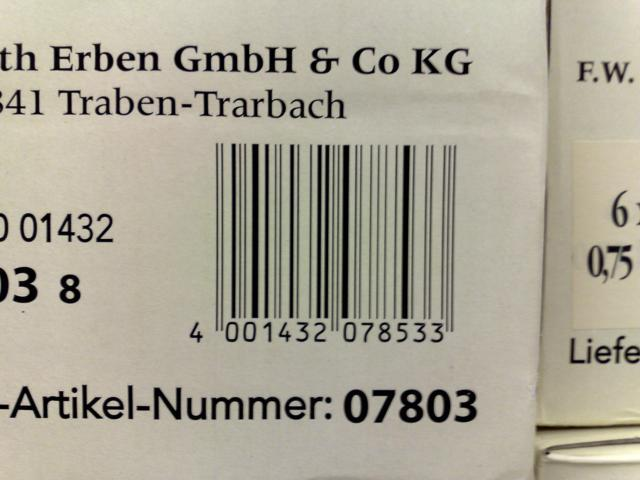Barkod: (212, 140, 458, 320)
